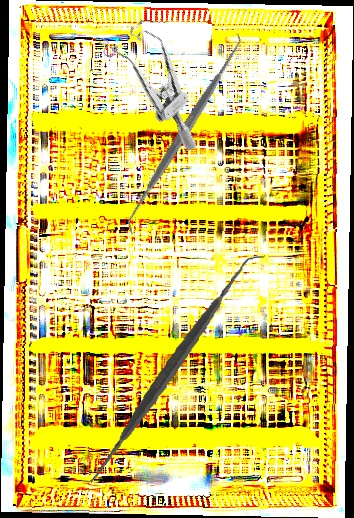Spatula Surgical: (60, 253, 283, 484), (113, 31, 255, 236)
Speculum: (89, 9, 233, 153)
